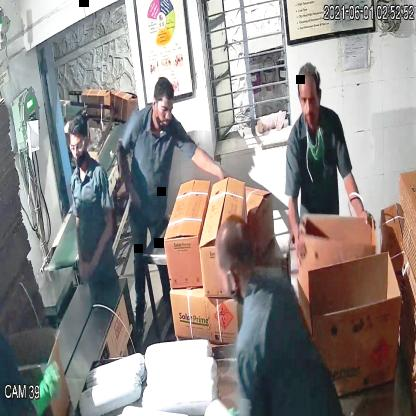goggles: (67, 134, 90, 158)
no_goggles: (294, 85, 323, 110)
